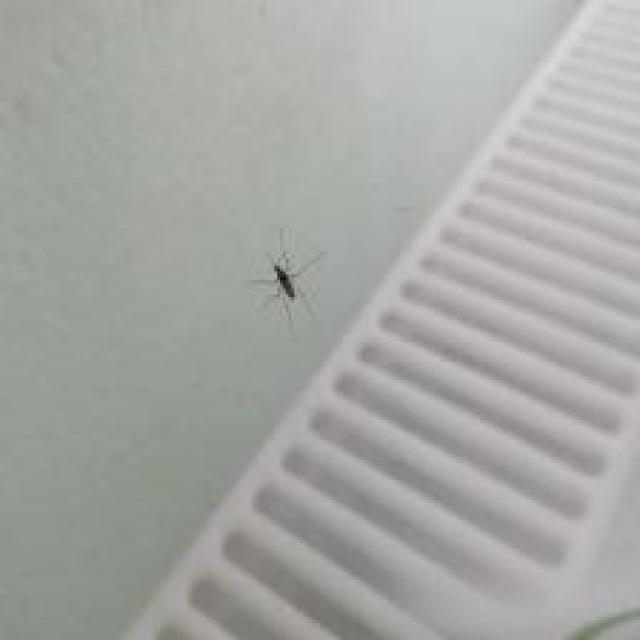Aedes albopictus: (250, 227, 327, 330)
